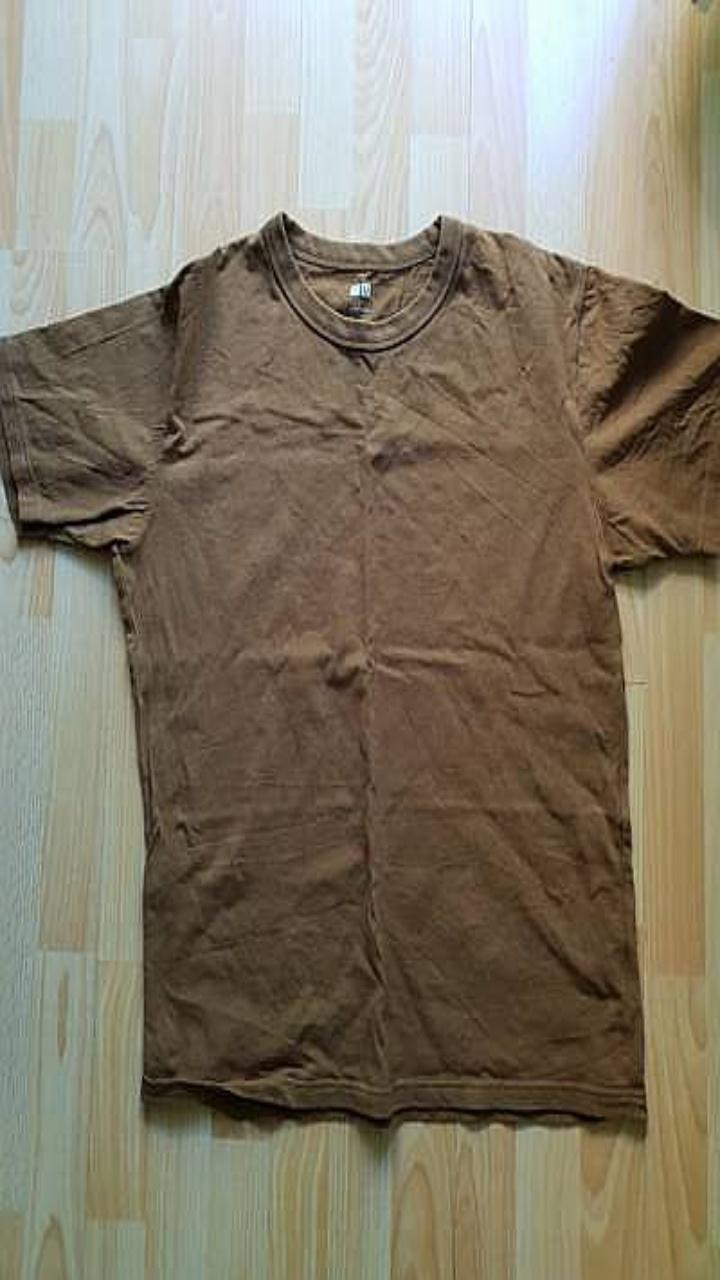T-Shirt: (0, 211, 719, 1121)
